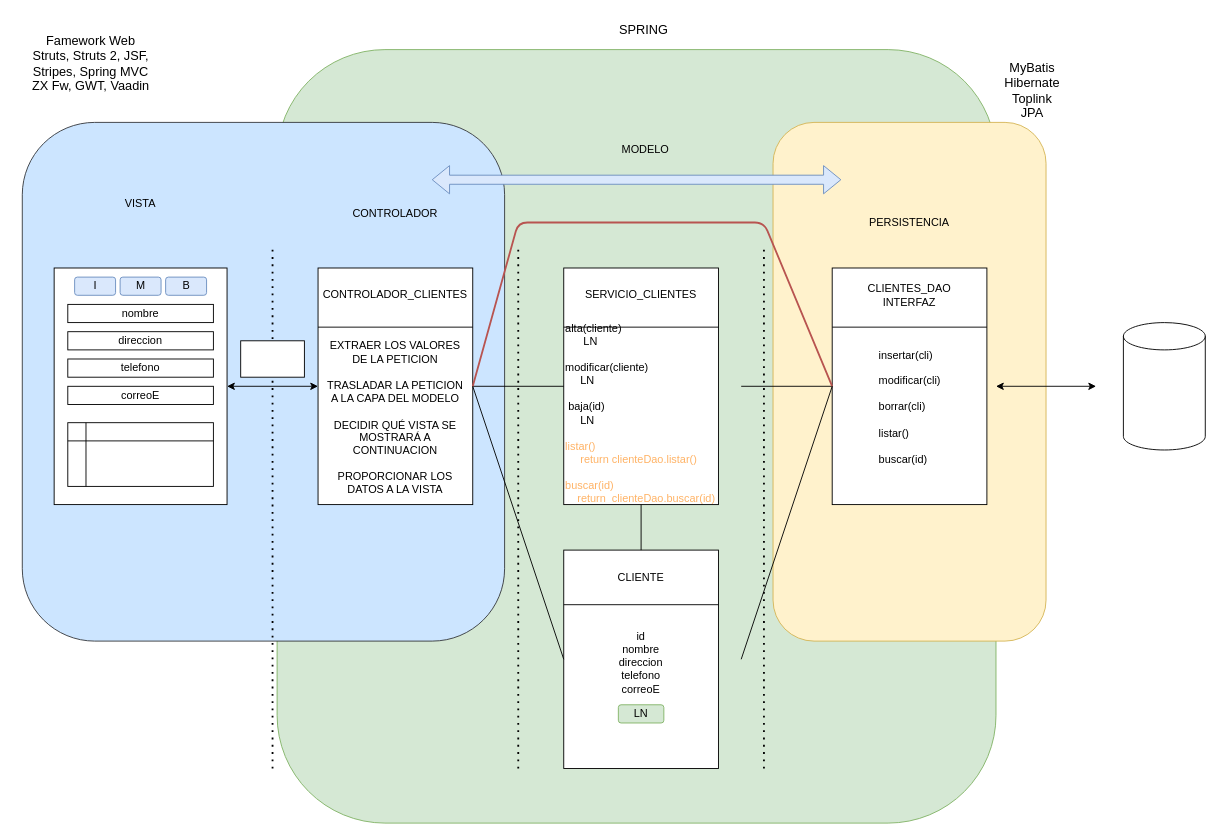
Image size: 1221x839. Some labels were removed from this diagram. The centre of each missing label's shape, as x and y in pixels:
BB.DD: point (1163, 386)
HTTP: point (272, 358)
